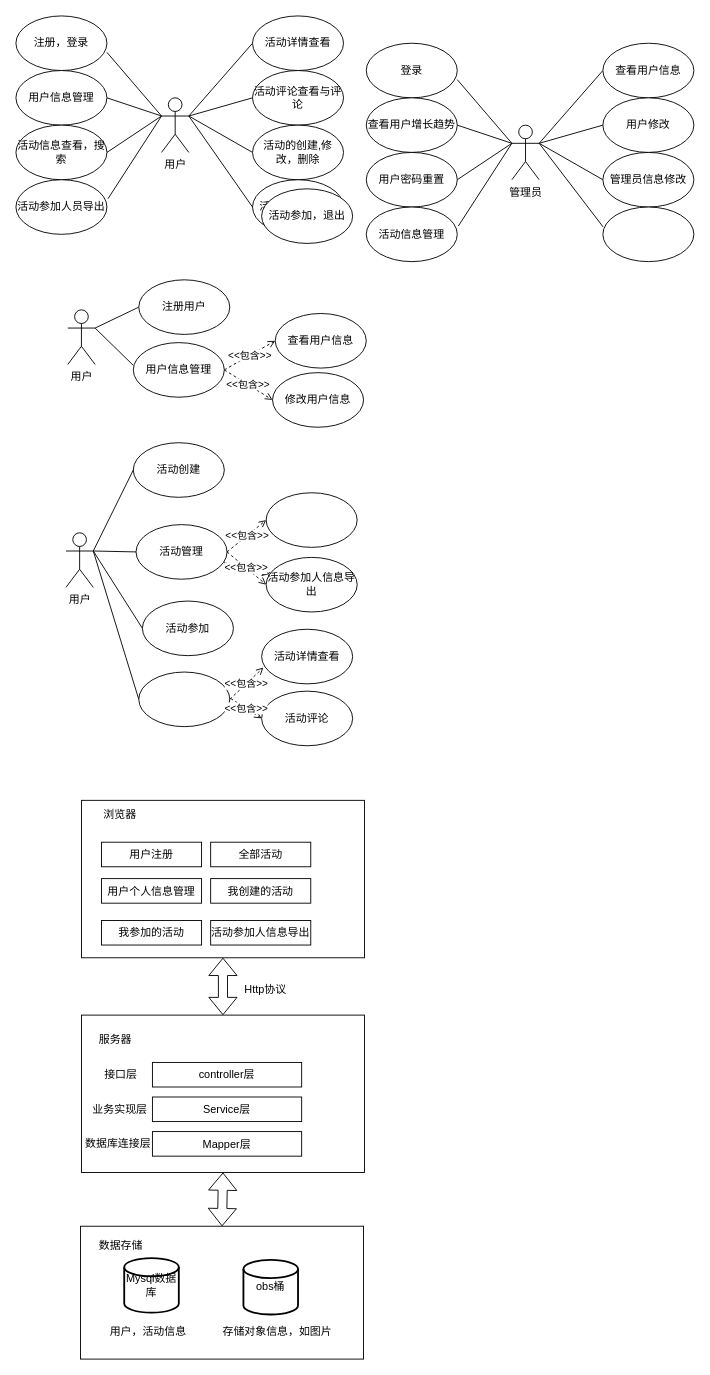
The diagram is 710 pixels wide and 1375 high, and some of its shapes have lost their labels. Here are the shapes that lost their labels. From the top down, the centre of each, then its label:
At pixel 648 234: "活动参与名单导出".
At pixel 311 519: "活动信息修改".
At pixel 184 699: "活动主页查看".
